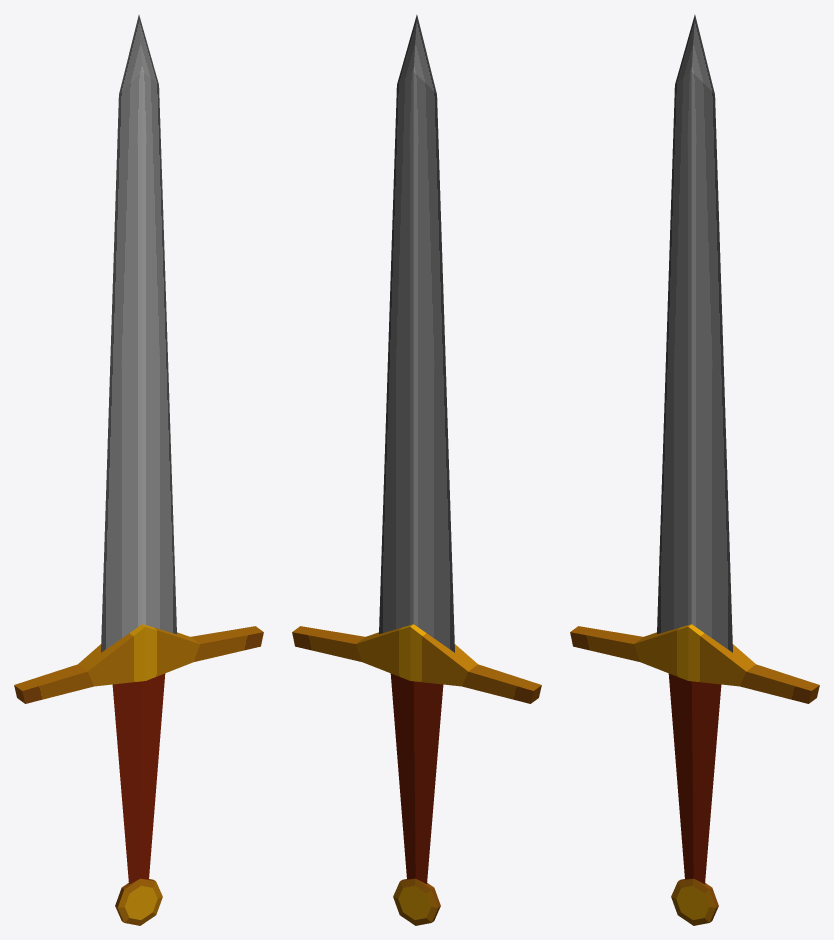
File: LongswordModel.fbx
3 renders of one model, left to right at view 1: azimuth 30°, elevation 25°; view 2: azimuth 150°, elevation 25°; view 3: azimuth 330°, elevation 25°, orthographic.
Parts seen in each view (by area): view 1: Longsword; view 2: Longsword; view 3: Longsword.
Part boxes in pixels (left/top/right/bottom): Longsword: left=14, top=15, right=263, bottom=925; Longsword: left=292, top=15, right=541, bottom=925; Longsword: left=570, top=15, right=819, bottom=925.
Size of the model in its own units: 51.24 by 185 by 4.99.
2 materials, 2 textured.
